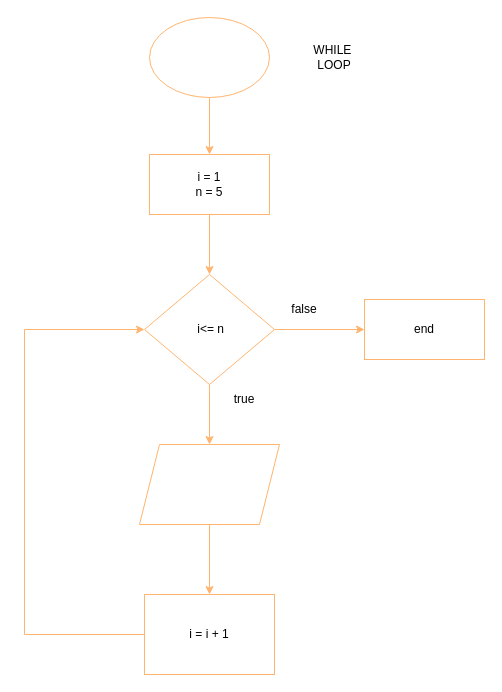
Some shapes in this 502 by 692 pixel diagram are drawn without their labels. Each missing label, with the centre of its shape:
"BEGIN" belongs at [209,57].
"print i" belongs at [209,484].
